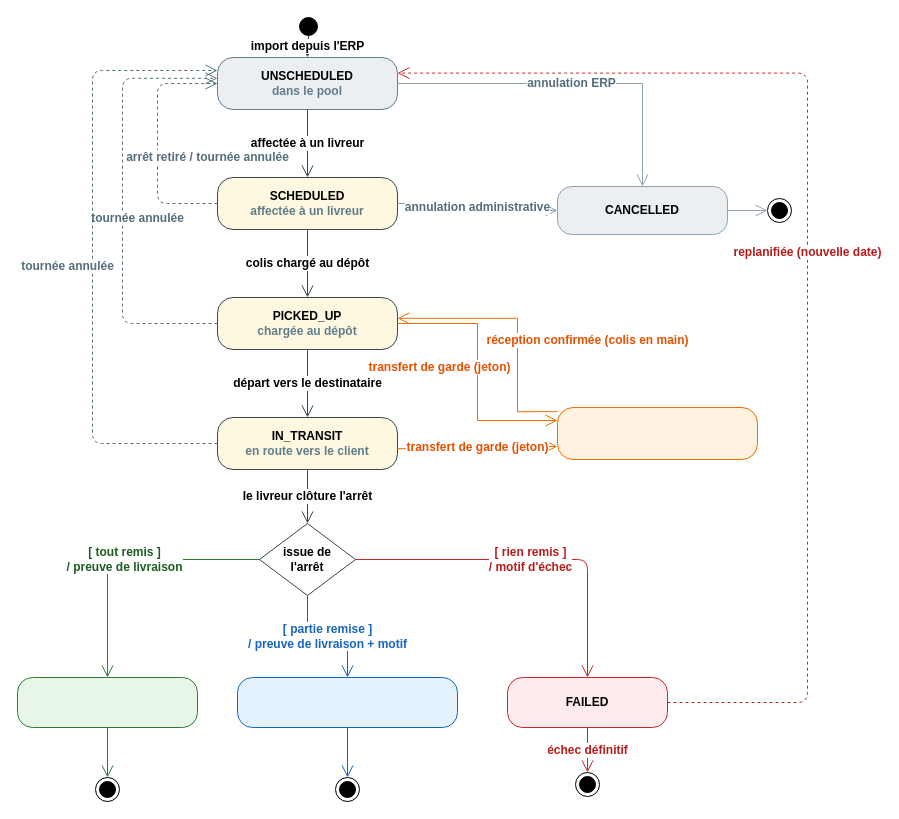
This 899x819 diagram has some shape labels left out. Each missing label, with the centre of its shape:
"AWAITING_HANDOFF transfert de garde" goes at (x=657, y=433).
"DELIVERED" goes at (x=107, y=702).
"PARTIALLY_DELIVERED" goes at (x=347, y=702).
